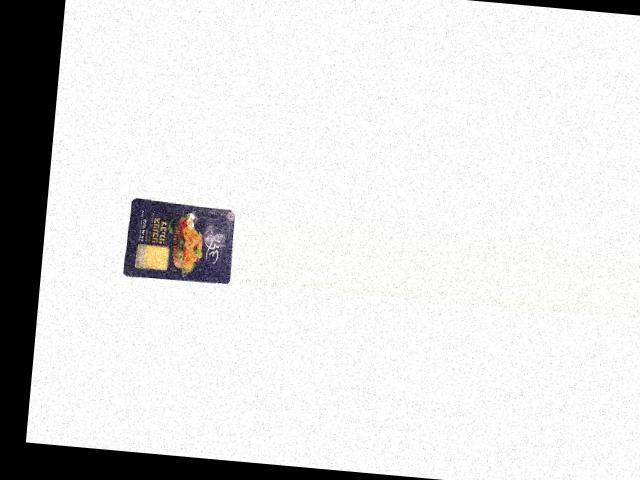cheese: (122, 195, 237, 285)
